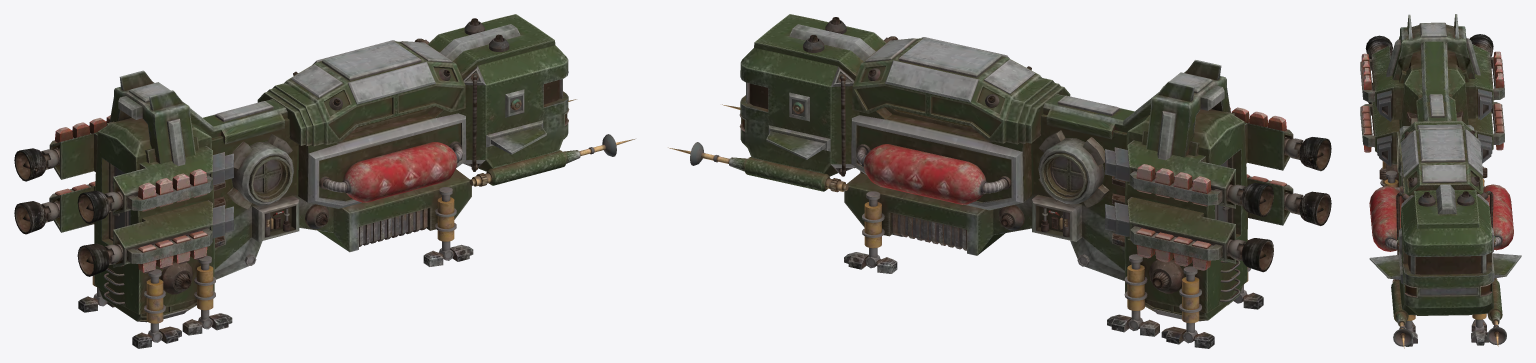
The model's file is tug.glb.
3 renders of one model, left to right at view 1: azimuth 30°, elevation 25°; view 2: azimuth 150°, elevation 25°; view 3: azimuth 270°, elevation 25°, orthographic. The views are drawn at different scales.
Visible parts, largest first — view 1: hull; view 2: hull; view 3: hull.
Boxes of the visible parts, bbox=[...] form: hull: bbox=[14, 14, 634, 348]; hull: bbox=[668, 14, 1331, 348]; hull: bbox=[1360, 14, 1521, 348].
Bounding box in the file's own units: 10 × 3.93 × 2.88.
2 materials, 2 textured.
